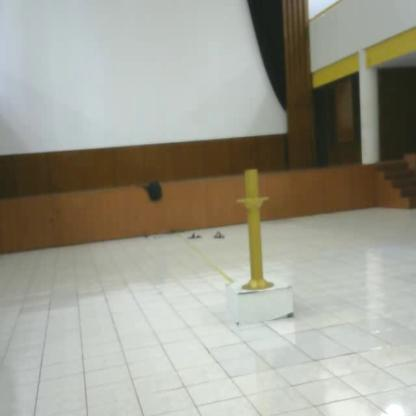pole: (233, 167, 278, 296)
